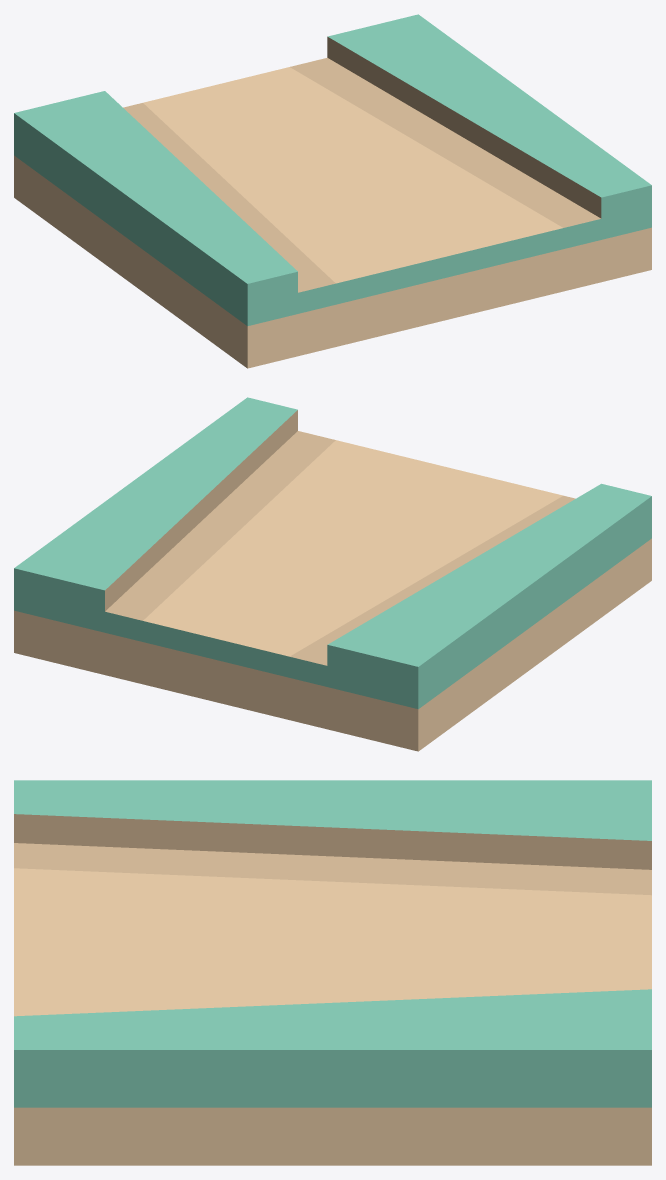
Rendered from tile_transition.glb.
3 renders of one model, top to bottom at view 1: azimuth 30°, elevation 25°; view 2: azimuth 150°, elevation 25°; view 3: azimuth 270°, elevation 25°, orthographic. The views are drawn at different scales.
Parts seen in each view (by area): view 1: tile_transition; view 2: tile_transition; view 3: tile_transition.
Part boxes in pixels (x1=…): tile_transition: x1=14, y1=14, x2=651, y2=368; tile_transition: x1=14, y1=397, x2=651, y2=751; tile_transition: x1=14, y1=780, x2=651, y2=1165.
Size of the model in its own units: 1 by 0.2 by 1.
